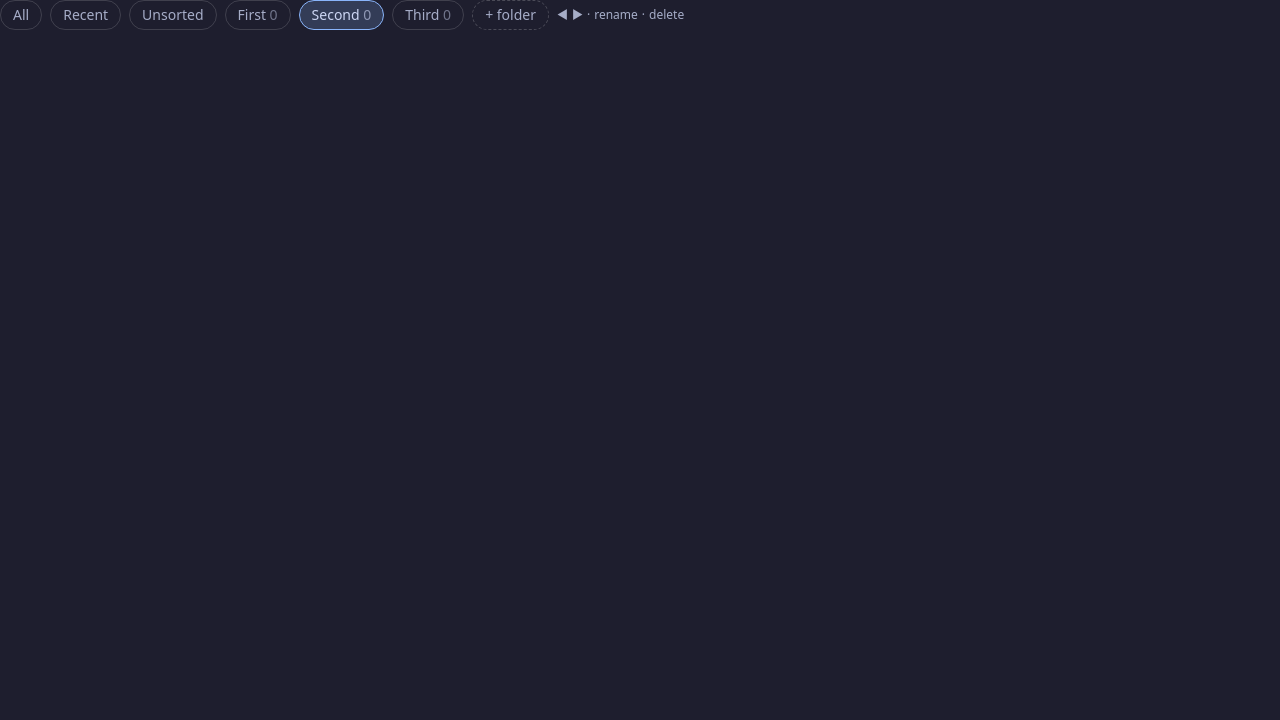
Test: deleting a folder that came from a bookmark label › says nothing of the sort for a folder made by hand
Click the button titled "Delete folder": (667, 15) top-left (649, 7), bottom-right (684, 23)
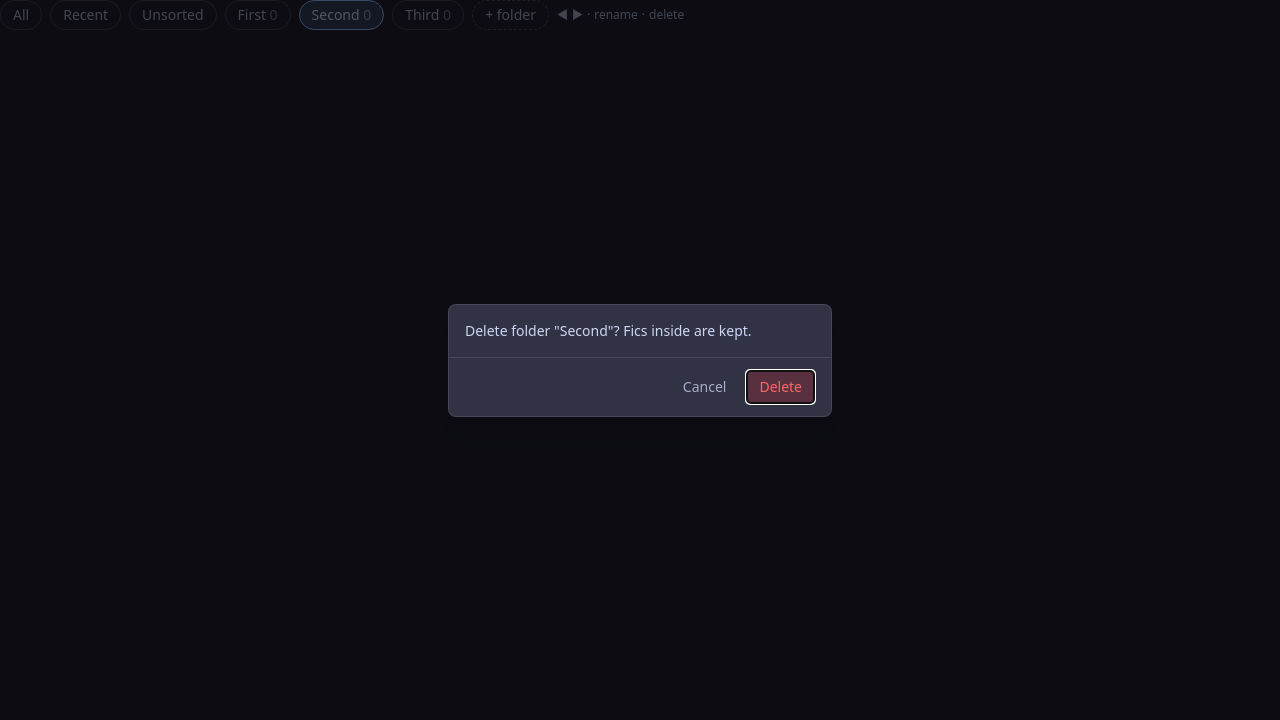
Result: the heading "Delete folder \"Second\"? Fics inside are kept." is shown at top-left (465, 320), bottom-right (752, 340)
